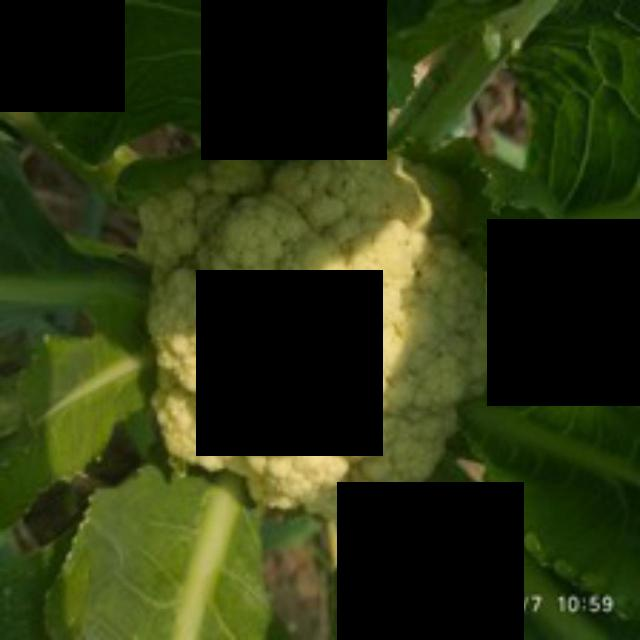cauliflower: (119, 122, 518, 529)
